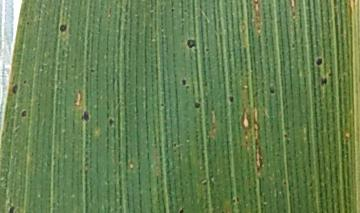tarspot: (78, 108, 93, 122), (185, 35, 198, 51), (57, 20, 69, 36), (9, 81, 22, 95), (312, 55, 326, 68), (18, 107, 30, 119), (225, 94, 238, 105), (320, 74, 330, 88), (192, 100, 203, 112), (6, 204, 18, 213), (180, 76, 189, 88), (106, 116, 115, 127)
